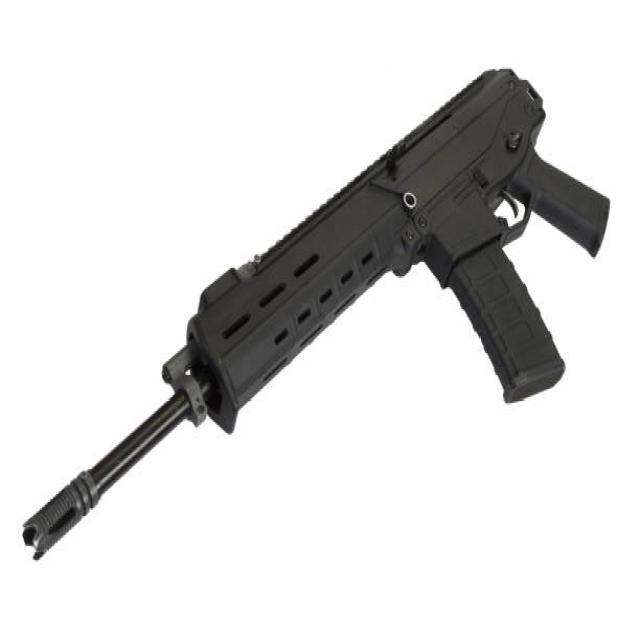rifle: (14, 68, 614, 584)
